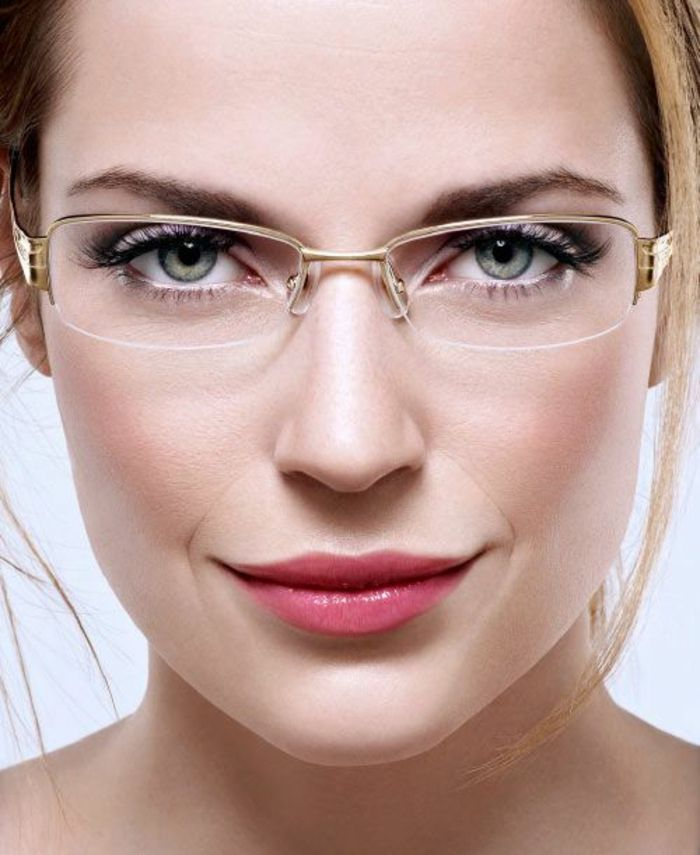llen: (386, 218, 638, 350)
rlen: (48, 218, 304, 351)
